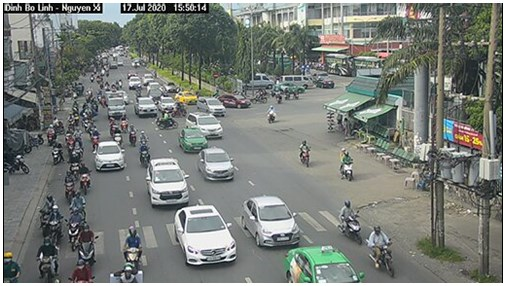xe_hoi: (171, 204, 239, 269), (241, 194, 302, 247), (145, 157, 192, 206), (197, 147, 240, 184), (185, 110, 223, 140), (94, 141, 127, 175), (179, 127, 208, 153), (134, 94, 157, 118)
xe_may: (366, 225, 399, 277), (33, 237, 60, 283), (339, 200, 364, 243), (76, 223, 98, 267), (121, 225, 143, 269), (64, 209, 85, 251), (48, 203, 62, 243), (339, 145, 354, 182), (60, 168, 76, 202), (78, 161, 94, 195), (295, 139, 312, 169), (70, 191, 86, 214), (261, 104, 278, 125), (52, 140, 65, 167), (139, 140, 150, 166), (127, 121, 136, 145)
